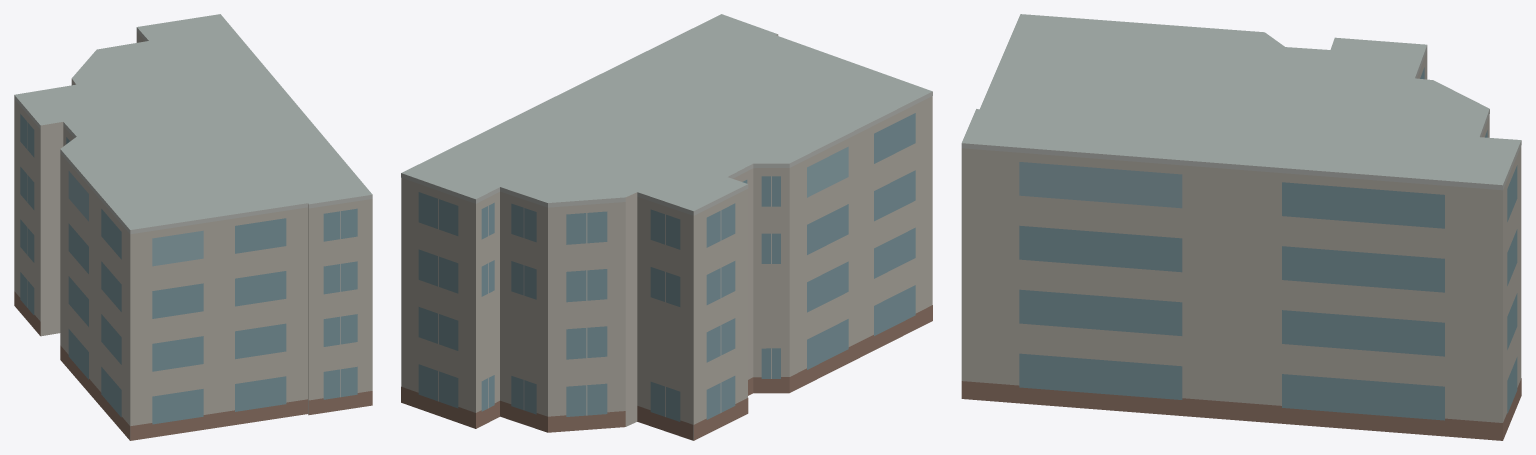
File: survey-upis-32463469.glb
3 renders of one model, left to right at view 1: azimuth 30°, elevation 25°; view 2: azimuth 150°, elevation 25°; view 3: azimuth 270°, elevation 25°, orthographic. The views are drawn at different scales.
Visible parts, largest first — view 1: survey-upis-32463469.tmp; view 2: survey-upis-32463469.tmp; view 3: survey-upis-32463469.tmp.
Part boxes in pixels (x1=…): survey-upis-32463469.tmp: x1=14, y1=14, x2=372, y2=440; survey-upis-32463469.tmp: x1=401, y1=14, x2=932, y2=440; survey-upis-32463469.tmp: x1=961, y1=14, x2=1521, y2=440.
Size of the model in its own units: 17.67 by 12.3 by 24.42.
